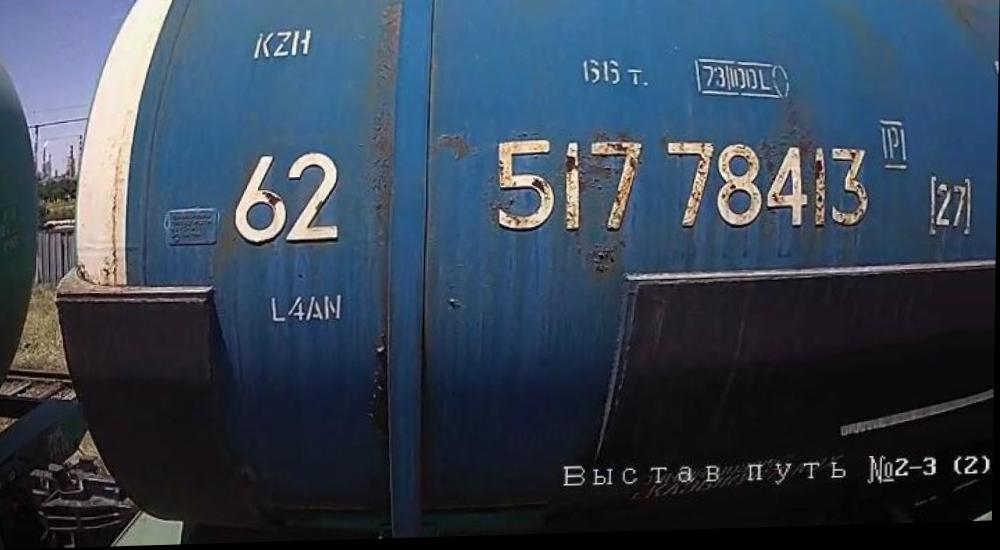Wagon-number: (491, 129, 874, 243)
